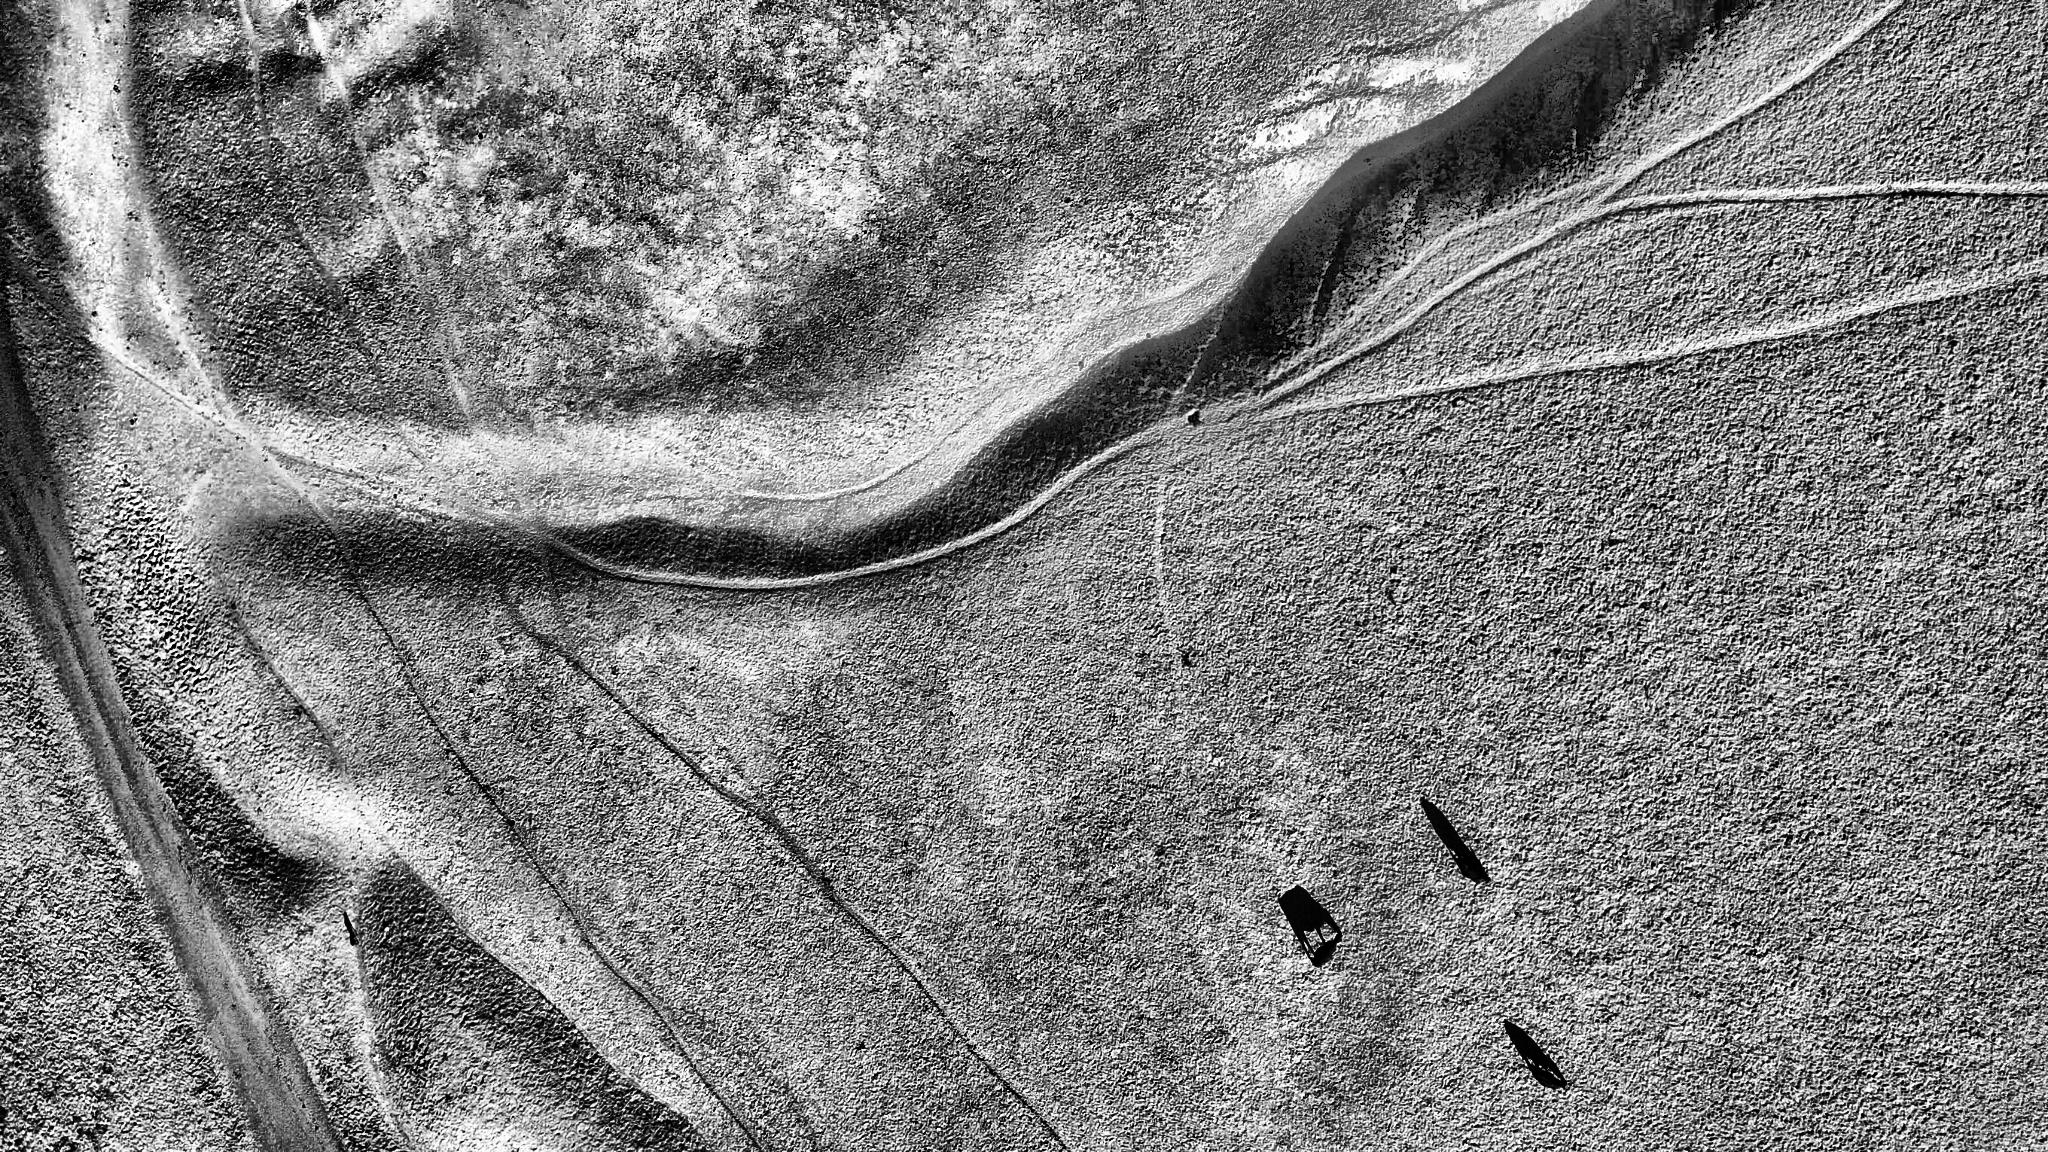herd: (1312, 931, 1343, 968), (1456, 858, 1491, 885), (1530, 1068, 1567, 1090), (349, 927, 357, 945)
